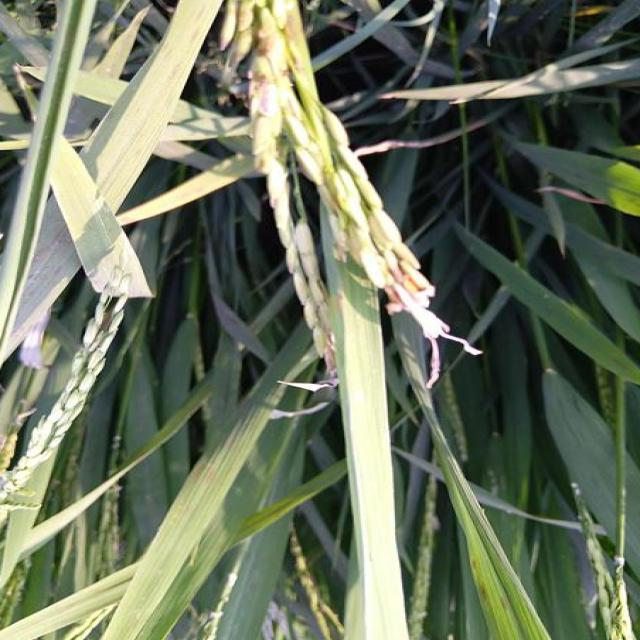Panicle Blight: (385, 242, 435, 313), (219, 1, 253, 83), (323, 196, 360, 260), (255, 147, 280, 209), (316, 302, 337, 375), (249, 70, 278, 118), (278, 44, 304, 80), (255, 24, 276, 60), (283, 4, 296, 40)
